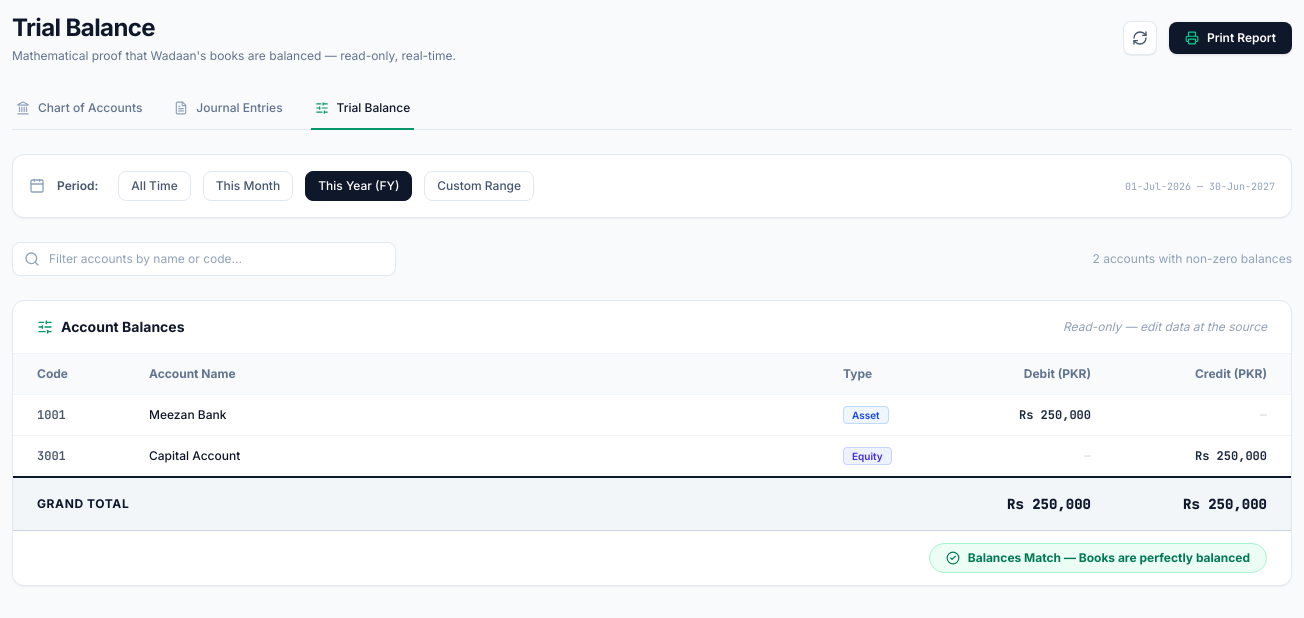
Test: TrialBalancePage Component › 4. Filters accounts correctly using search input and handles empty states
Expected: the text "Meezan Bank" is shown, left=149, top=407, right=226, bottom=423
Expected: the text "Capital Account" is shown, left=149, top=448, right=240, bottom=464
Type filter for "Meezan"
Type "Meezan" into the field with placeholder "Filter accounts by name or code..." at (204, 259), box left=12, top=242, right=396, bottom=276
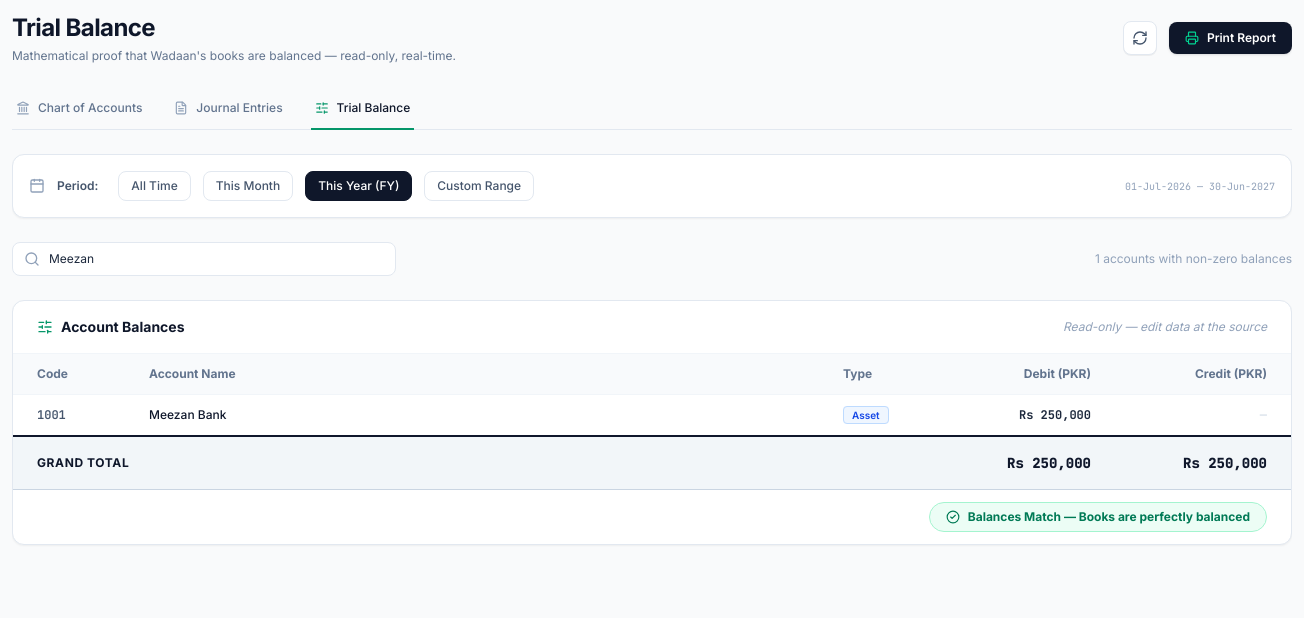
Expected: the text "Meezan Bank" is shown, left=149, top=407, right=226, bottom=423
Expected: the text "Capital Account" is gone
Search non-existent account
Replace the text in the field with placeholder "Filter accounts by name or code..." with "Nonexistent" at (204, 259), box left=12, top=242, right=396, bottom=276
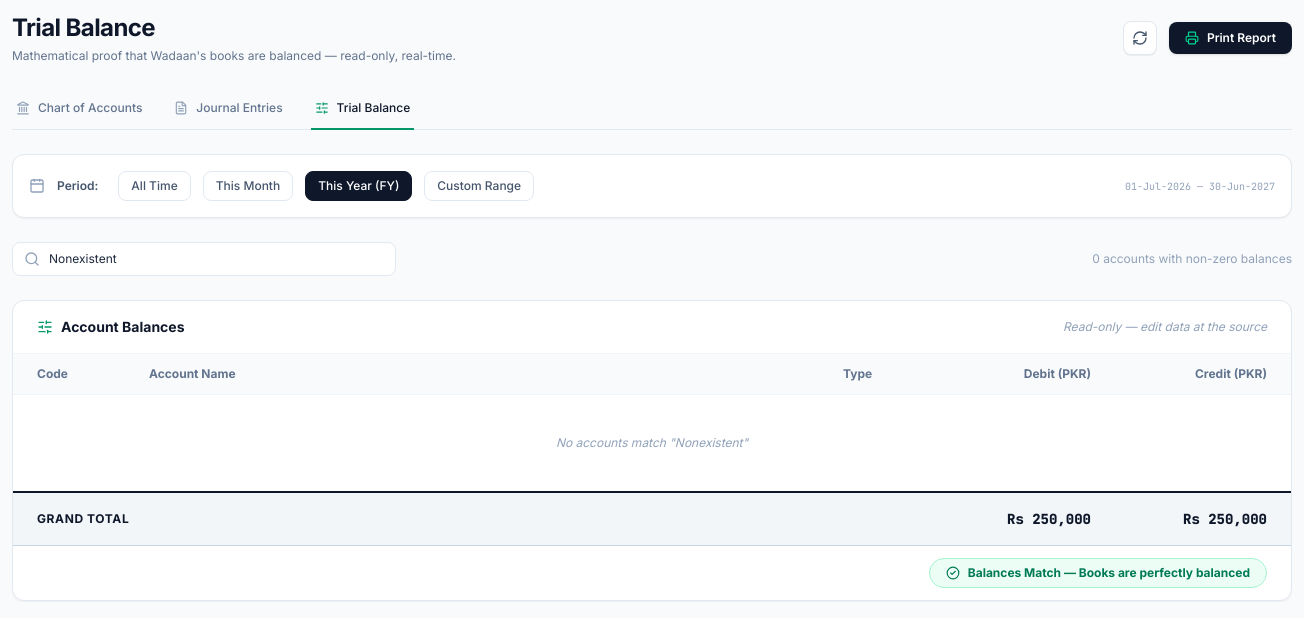
Expected: the text "No accounts match \"Nonexistent\"" is shown, left=13, top=394, right=1291, bottom=492
